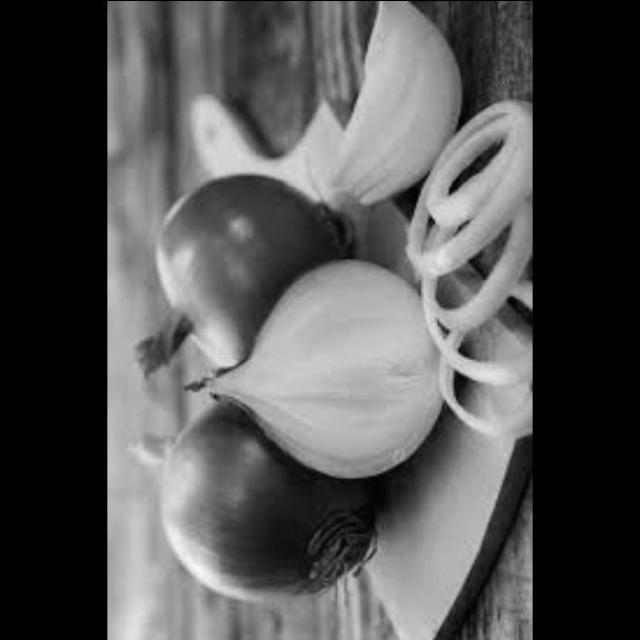onion: (182, 250, 443, 483), (158, 398, 387, 627), (128, 185, 360, 392), (398, 90, 530, 424), (326, 0, 476, 219)
